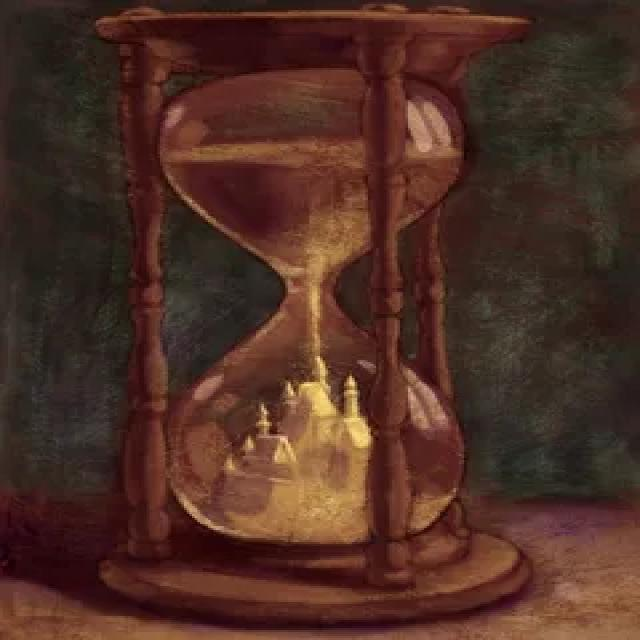clock: (82, 0, 544, 640)
